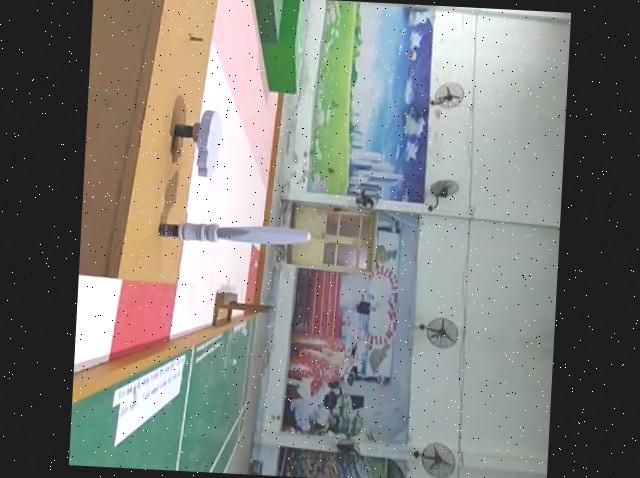Hand: (172, 103, 222, 180)
Sph: (158, 220, 313, 247)
